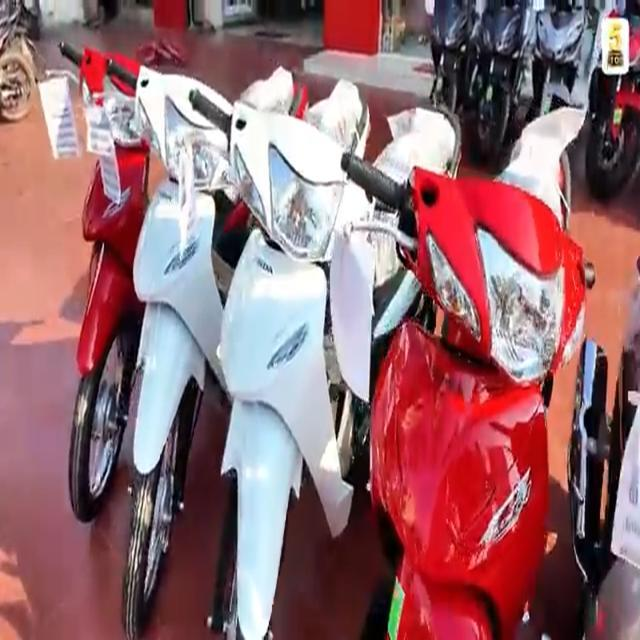motorcycle: (357, 162, 585, 638), (211, 91, 357, 638), (101, 62, 223, 622), (38, 20, 122, 519), (588, 0, 640, 192), (528, 0, 588, 136), (474, 2, 524, 133), (417, 1, 470, 116)
